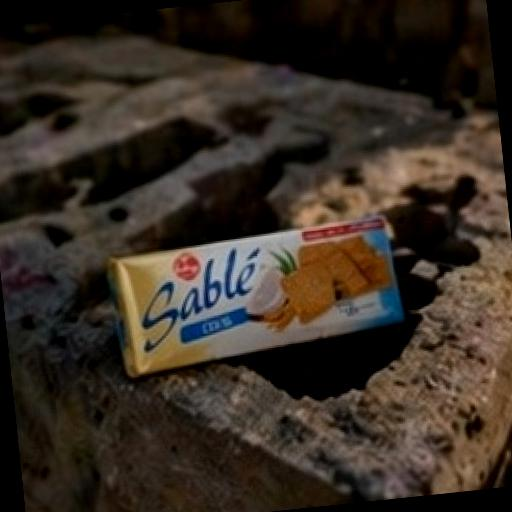sabl: (78, 160, 454, 440)
